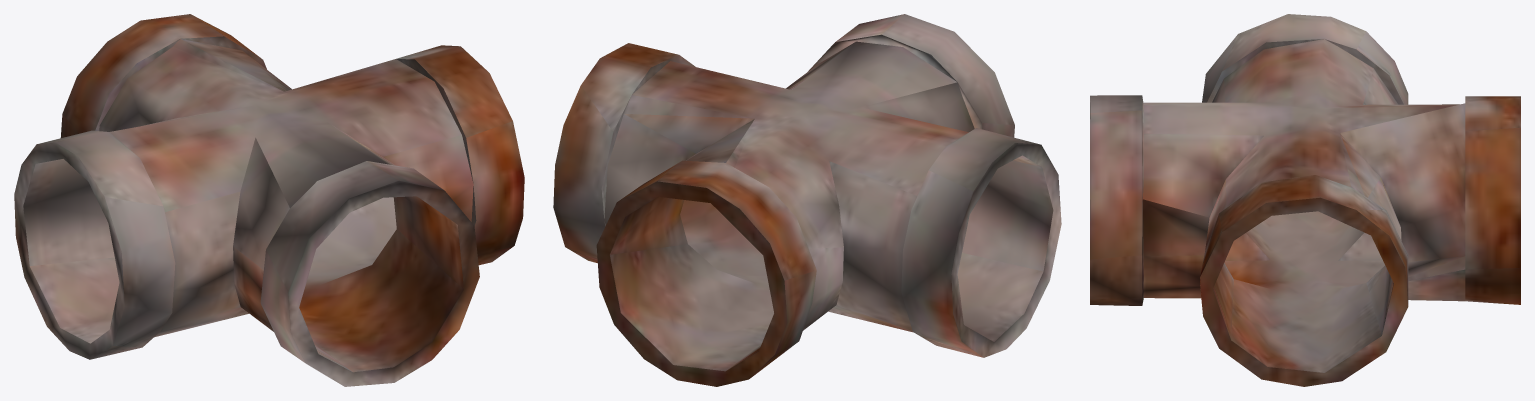
The model's file is small_steel_pipe_09.glb.
3 views of the same model, side by side, from view 1: azimuth 30°, elevation 25°; view 2: azimuth 150°, elevation 25°; view 3: azimuth 270°, elevation 25° (orthographic). The views are drawn at different scales.
Parts seen in each view (by area): view 1: small_steel_pipe_09; view 2: small_steel_pipe_09; view 3: small_steel_pipe_09.
Part boxes in pixels (x1,y1,x2,y2): small_steel_pipe_09: [14, 14, 524, 386]; small_steel_pipe_09: [553, 14, 1061, 386]; small_steel_pipe_09: [1090, 14, 1520, 386].
Size of what is drawn, in the model's own units: 0.0447 by 0.0216 by 0.0443.
1 material, 1 textured.
